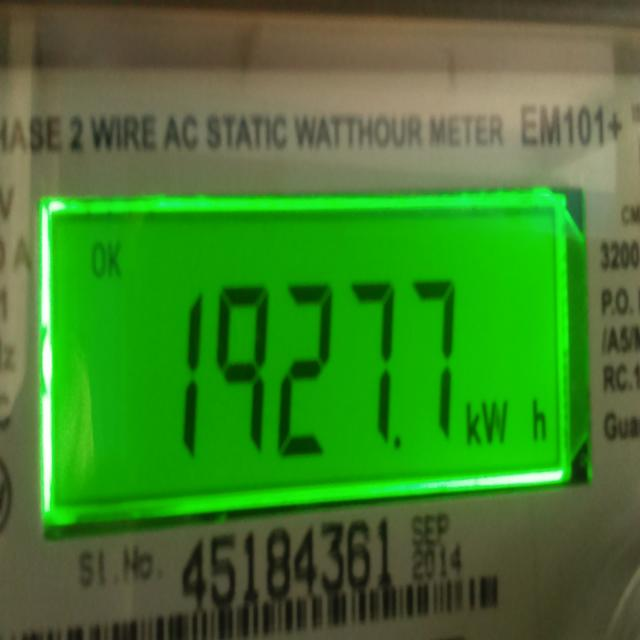.: (391, 430, 408, 461)
1: (174, 284, 215, 471)
2: (272, 268, 341, 463)
7: (406, 268, 461, 459), (349, 272, 398, 450)
9: (210, 264, 270, 458)
